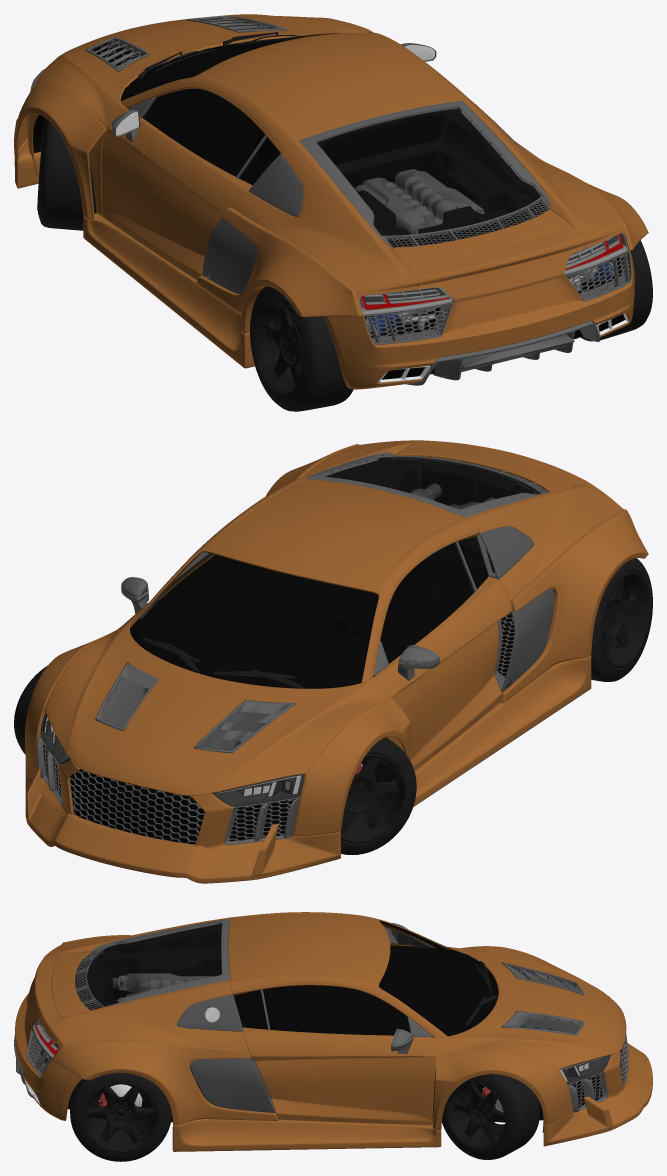
The model's file is car-r8.glb.
3 renders of one model, top to bottom at view 1: azimuth 30°, elevation 25°; view 2: azimuth 150°, elevation 25°; view 3: azimuth 270°, elevation 25°, orthographic. The views are drawn at different scales.
Parts seen in each view (by area): view 1: Doors.009_body_0, Plane_glass_0, Doors.001_body_0, Doors_body_0, Doors.011_body_0, Plane.010_pure black_0, Doors.015_matte black_0, custom hood_body_0, Doors.016_body_0, Doors.018_body_0, Plane.007_glass_0, Doors.005_body_0 (+31 smaller); view 2: custom hood_body_0, Plane.010_pure black_0, Doors.014_glass_0, Doors.009_body_0, Doors_body_0, Front Bumper.005_body_0, Doors.016_body_0, Hood.003_body_0, Doors.001_body_0, Doors.018_body_0, Plane.007_glass_0, Plane_glass_0 (+26 smaller); view 3: Doors_body_0, Plane.010_pure black_0, Doors.009_body_0, custom hood_body_0, Doors.016_body_0, Doors.001_body_0, Doors.014_glass_0, Doors.018_body_0, Plane.007_glass_0, Plane_glass_0, Hood.003_body_0, Doors.015_matte black_0 (+26 smaller).
Part boxes in pixels (left/top/right/bottom): Doors.009_body_0: left=121, top=32, right=473, bottom=151; Plane_glass_0: left=317, top=109, right=540, bottom=235; Doors.001_body_0: left=230, top=100, right=629, bottom=316; Doors_body_0: left=101, top=108, right=252, bottom=279; Doors.011_body_0: left=324, top=251, right=634, bottom=389; Plane.010_pure black_0: left=121, top=40, right=438, bottom=184; Doors.015_matte black_0: left=317, top=109, right=540, bottom=235; custom hood_body_0: left=34, top=14, right=357, bottom=150; Doors.016_body_0: left=196, top=141, right=648, bottom=333; Doors.018_body_0: left=83, top=213, right=254, bottom=368; Plane.007_glass_0: left=142, top=88, right=280, bottom=184; Doors.005_body_0: left=408, top=228, right=586, bottom=302; custom hood_body_0: left=41, top=618, right=390, bottom=796; Plane.010_pure black_0: left=130, top=555, right=488, bottom=688; Doors.014_glass_0: left=130, top=551, right=378, bottom=687; Doors.009_body_0: left=130, top=478, right=478, bottom=682; Doors_body_0: left=122, top=553, right=512, bottom=770; Front Bumper.005_body_0: left=25, top=756, right=341, bottom=883; Doors.016_body_0: left=266, top=444, right=648, bottom=703; Hood.003_body_0: left=25, top=630, right=410, bottom=836; Doors.001_body_0: left=300, top=440, right=622, bottom=606; Doors.018_body_0: left=413, top=655, right=591, bottom=806; Plane.007_glass_0: left=161, top=536, right=488, bottom=663; Plane_glass_0: left=326, top=456, right=540, bottom=509; Doors_body_0: left=242, top=943, right=435, bottom=1124; Plane.010_pure black_0: left=234, top=945, right=498, bottom=1037; Doors.009_body_0: left=228, top=912, right=448, bottom=1037; custom hood_body_0: left=433, top=946, right=626, bottom=1070; Doors.016_body_0: left=52, top=935, right=278, bottom=1125; Doors.001_body_0: left=42, top=917, right=247, bottom=1052; Doors.014_glass_0: left=379, top=920, right=492, bottom=1036; Doors.018_body_0: left=172, top=1119, right=441, bottom=1151; Plane.007_glass_0: left=234, top=925, right=410, bottom=1035; Plane_glass_0: left=87, top=923, right=221, bottom=1006; Hood.003_body_0: left=432, top=946, right=573, bottom=1130; Doors.015_matte black_0: left=93, top=924, right=221, bottom=1006.
Size of the model in its own units: 2.39 by 1.28 by 4.58.
Materials: 15 (4 with a texture image).
